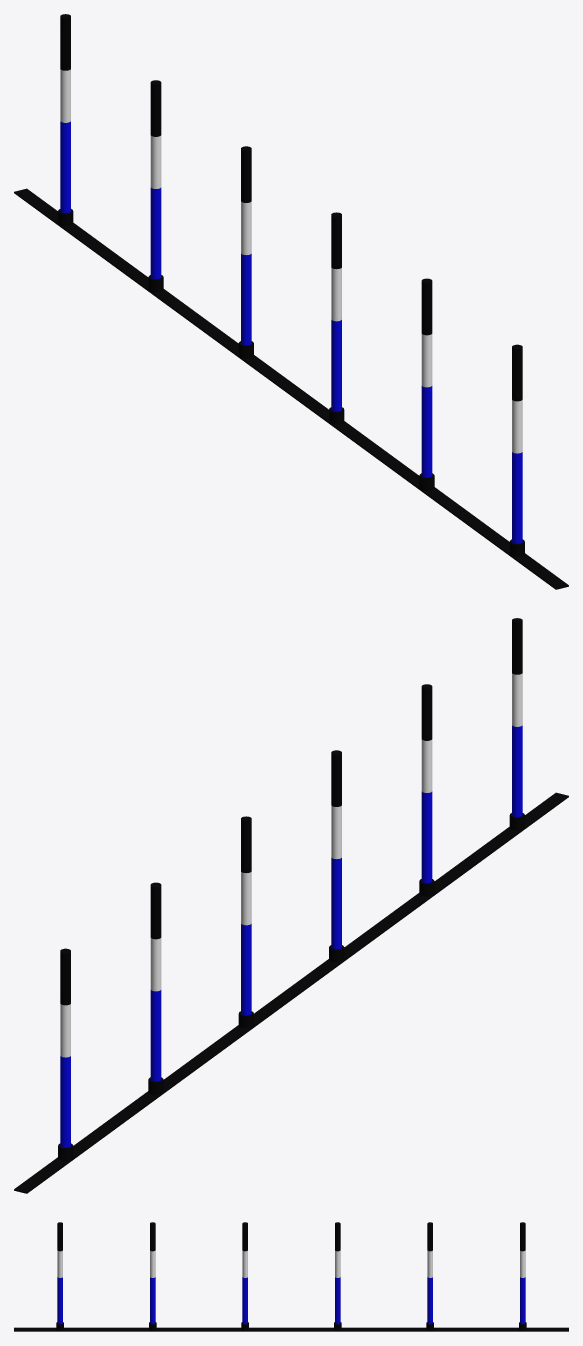
Rendered from Pole-1.gltf.
3 renders of one model, top to bottom at view 1: azimuth 30°, elevation 25°; view 2: azimuth 150°, elevation 25°; view 3: azimuth 270°, elevation 25°, orthographic. The views are drawn at different scales.
Visible parts, largest first — view 1: pole (×6), base (×6); view 2: pole (×6), base (×6); view 3: pole (×6), base#1 (×12), base (×6).
Boxes of the visible parts, box(x1,y1,x2,y2) form: pole (×6): box(14, 188, 568, 589); base (×6): box(60, 121, 522, 543); pole (×6): box(14, 792, 568, 1193); base (×6): box(60, 725, 522, 1147); pole (×6): box(14, 1322, 568, 1331); base#1 (×12): box(57, 1222, 525, 1277); base (×6): box(57, 1277, 525, 1324).
Bounding box in the file's own units: 0.05 × 0.763 × 3.6.
